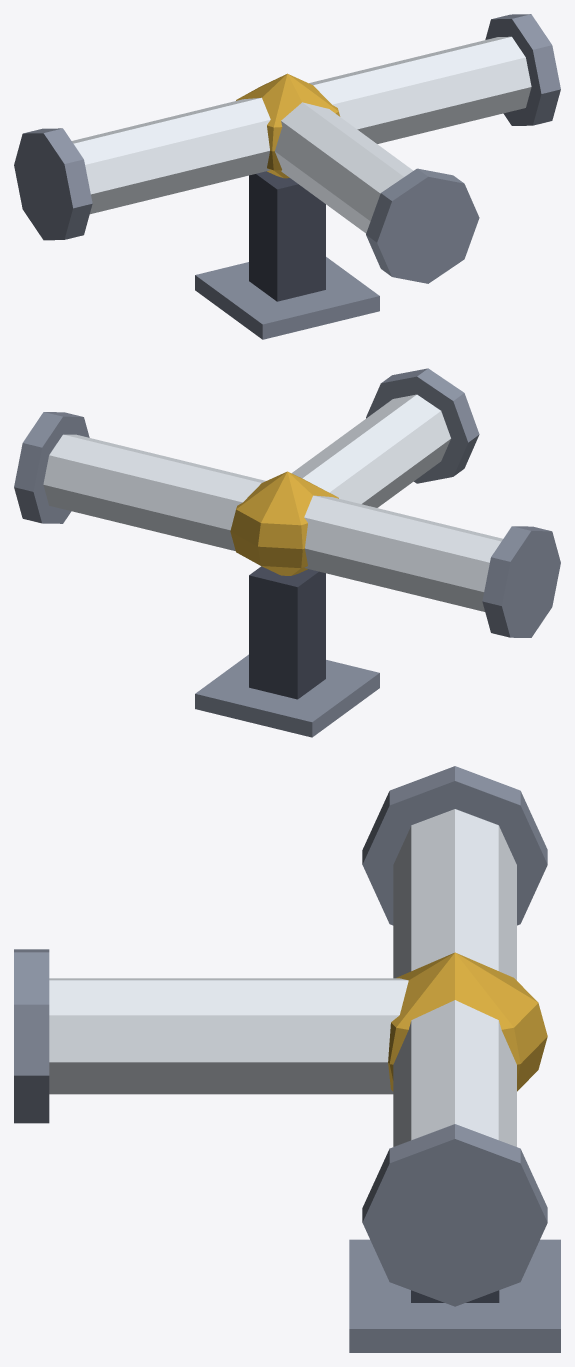
The model's file is steam-pipe-tee.glb.
3 views of the same model, one above another, from view 1: azimuth 30°, elevation 25°; view 2: azimuth 150°, elevation 25°; view 3: azimuth 270°, elevation 25° (orthographic). The views are drawn at different scales.
Parts seen in each view (by area): view 1: steam-pipe-tee; view 2: steam-pipe-tee; view 3: steam-pipe-tee.
Boxes of the visible parts, x1,y1,x2,y2 form: steam-pipe-tee: (14,14,560,339); steam-pipe-tee: (14,368,560,737); steam-pipe-tee: (14,766,560,1352).
Size of the model in its own units: 1 by 0.445 by 0.62.
1 material, 1 textured.
